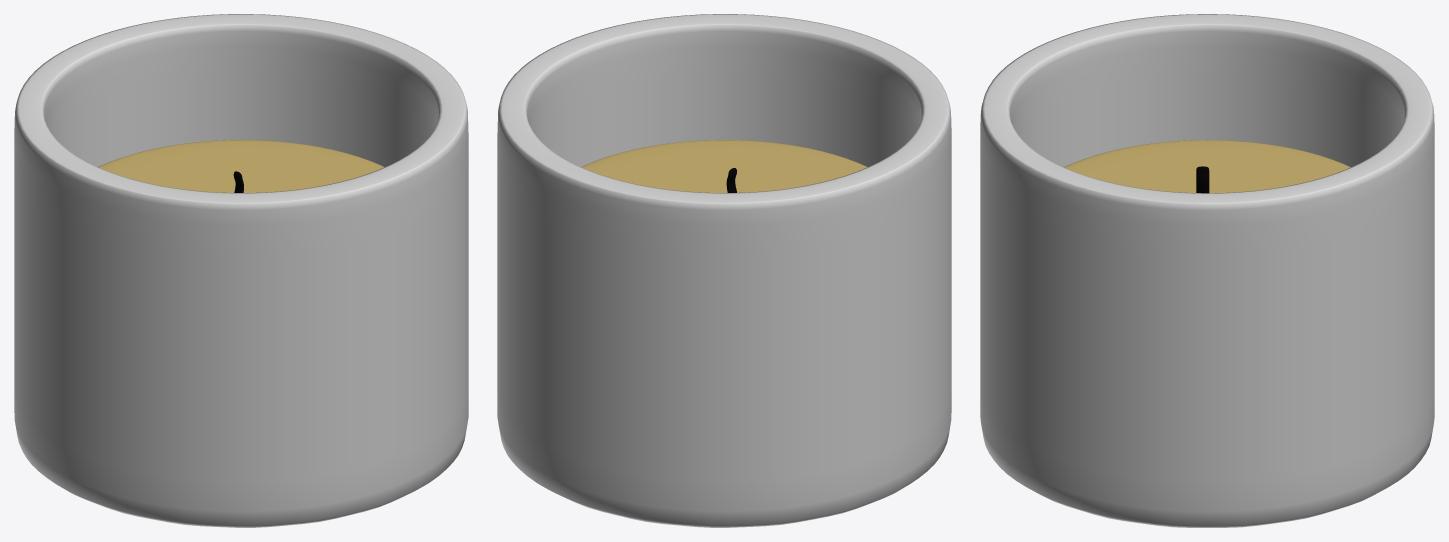
The model's file is candle.fbx.
3 renders of one model, left to right at view 1: azimuth 30°, elevation 25°; view 2: azimuth 150°, elevation 25°; view 3: azimuth 270°, elevation 25°, orthographic.
Visible parts, largest first — view 1: pCylinder4; view 2: pCylinder4; view 3: pCylinder4.
Boxes of the visible parts, <box> form: pCylinder4: <box>14,14,468,527</box>; pCylinder4: <box>497,14,951,527</box>; pCylinder4: <box>980,14,1434,527</box>.
Bounding box in the file's own units: 12.08 × 9.65 × 12.08.
